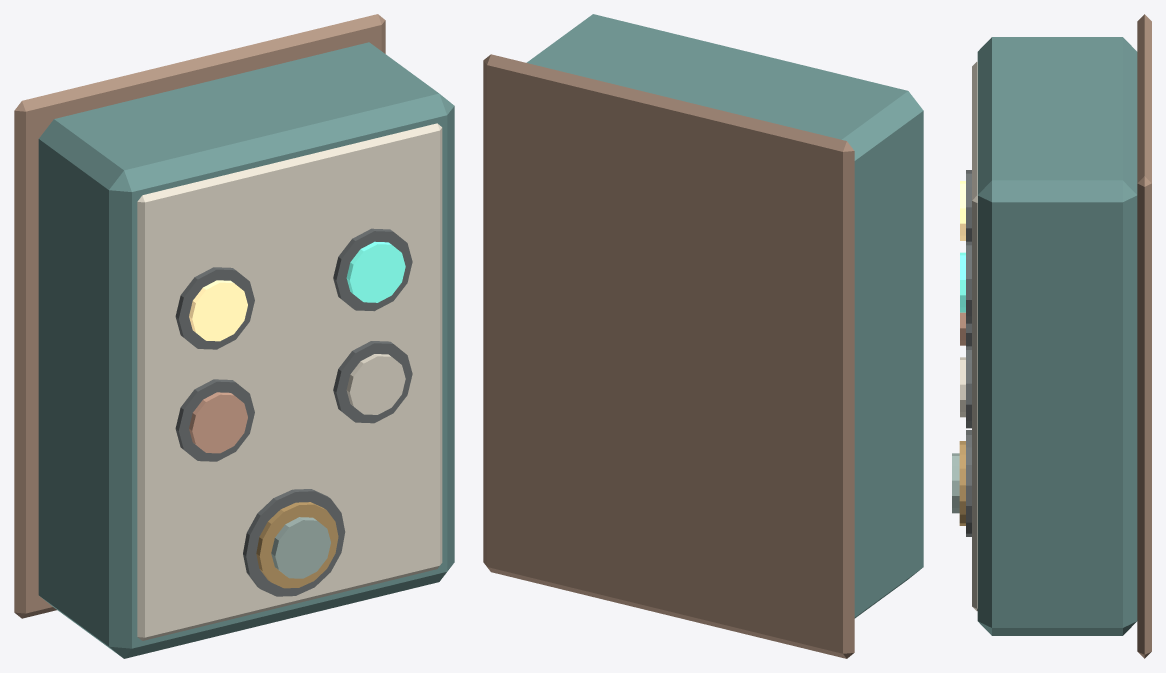
The model's file is I04_art_repair_candidate.glb.
3 views of the same model, side by side, from view 1: azimuth 30°, elevation 25°; view 2: azimuth 150°, elevation 25°; view 3: azimuth 270°, elevation 25° (orthographic). The views are drawn at different scales.
Parts seen in each view (by area): view 1: I04_Cream_Faceplate, I04_Teal_Cabinet, I04_Walnut_Wall_Backplate, I04_Dial_Graphite_Base, I04_Dial_Teal_Knob, I04_Indicator_3_Lens, I04_Indicator_1_Lens, I04_Indicator_2_Lens, I04_Indicator_4_Lens, I04_Dial_Brass_Ring, I04_Indicator_3_Socket, I04_Indicator_1_Socket (+2 smaller); view 2: I04_Walnut_Wall_Backplate, I04_Teal_Cabinet; view 3: I04_Teal_Cabinet, I04_Walnut_Wall_Backplate, I04_Cream_Faceplate, I04_Dial_Graphite_Base, I04_Dial_Brass_Ring, I04_Indicator_2_Socket, I04_Indicator_4_Socket, I04_Dial_Teal_Knob, I04_Indicator_1_Socket, I04_Indicator_2_Lens, I04_Indicator_4_Lens, I04_Indicator_1_Lens.
Boxes of the visible parts, left/top/right/bottom form: I04_Cream_Faceplate: left=137, top=123, right=442, bottom=640; I04_Teal_Cabinet: left=38, top=42, right=454, bottom=658; I04_Walnut_Wall_Backplate: left=14, top=14, right=385, bottom=618; I04_Dial_Graphite_Base: left=243, top=489, right=345, bottom=596; I04_Dial_Teal_Knob: left=271, top=517, right=330, bottom=578; I04_Indicator_3_Lens: left=189, top=392, right=247, bottom=453; I04_Indicator_1_Lens: left=189, top=280, right=247, bottom=341; I04_Indicator_2_Lens: left=346, top=241, right=405, bottom=302; I04_Indicator_4_Lens: left=346, top=354, right=405, bottom=414; I04_Dial_Brass_Ring: left=256, top=502, right=338, bottom=588; I04_Indicator_3_Socket: left=175, top=379, right=254, bottom=461; I04_Indicator_1_Socket: left=175, top=267, right=254, bottom=349; I04_Walnut_Wall_Backplate: left=483, top=54, right=854, bottom=658; I04_Teal_Cabinet: left=526, top=14, right=923, bottom=618; I04_Teal_Cabinet: left=977, top=37, right=1137, bottom=635; I04_Walnut_Wall_Backplate: left=1137, top=14, right=1151, bottom=658; I04_Cream_Faceplate: left=972, top=62, right=977, bottom=610; I04_Dial_Graphite_Base: left=966, top=430, right=971, bottom=536; I04_Dial_Brass_Ring: left=959, top=441, right=965, bottom=525; I04_Indicator_2_Socket: left=966, top=241, right=971, bottom=323; I04_Indicator_4_Socket: left=966, top=346, right=971, bottom=428; I04_Dial_Teal_Knob: left=952, top=453, right=959, bottom=513; I04_Indicator_1_Socket: left=966, top=170, right=971, bottom=241; I04_Indicator_2_Lens: left=960, top=252, right=965, bottom=312; I04_Indicator_4_Lens: left=960, top=357, right=965, bottom=417; I04_Indicator_1_Lens: left=960, top=181, right=965, bottom=240.
Bounding box in the file's own units: 3 × 4 × 1.5.
